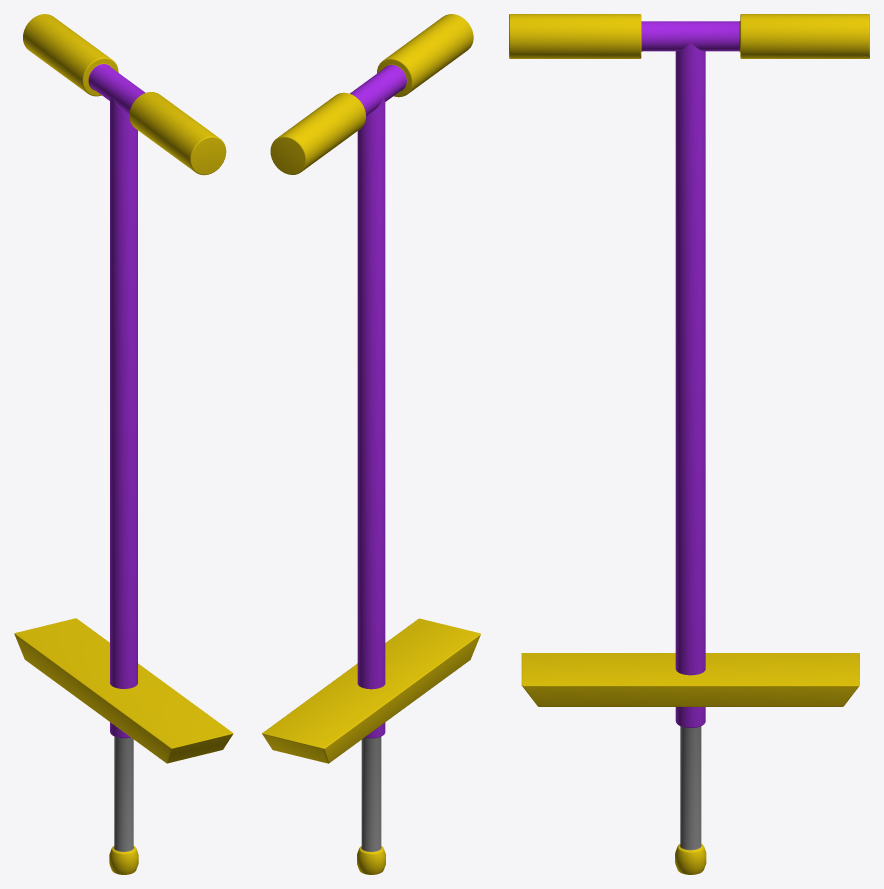
File: Pogo.fbx
The picture shows the model from 3 angles, left to right: view 1: azimuth 30°, elevation 25°; view 2: azimuth 150°, elevation 25°; view 3: azimuth 270°, elevation 25°; orthographic projection. The views are drawn at different scales.
Parts seen in each view (by area): view 1: Pogo; view 2: Pogo; view 3: Pogo.
Boxes of the visible parts, x1=… form: Pogo: x1=14, y1=14, x2=233, y2=874; Pogo: x1=262, y1=14, x2=480, y2=874; Pogo: x1=509, y1=14, x2=869, y2=874.
Size of the model in its own units: 597 by 7223 by 2767.
